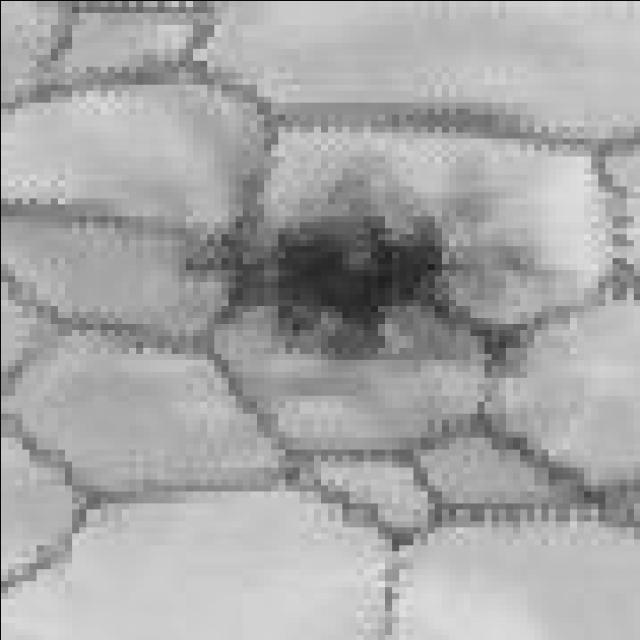good_void: (186, 202, 521, 379)
